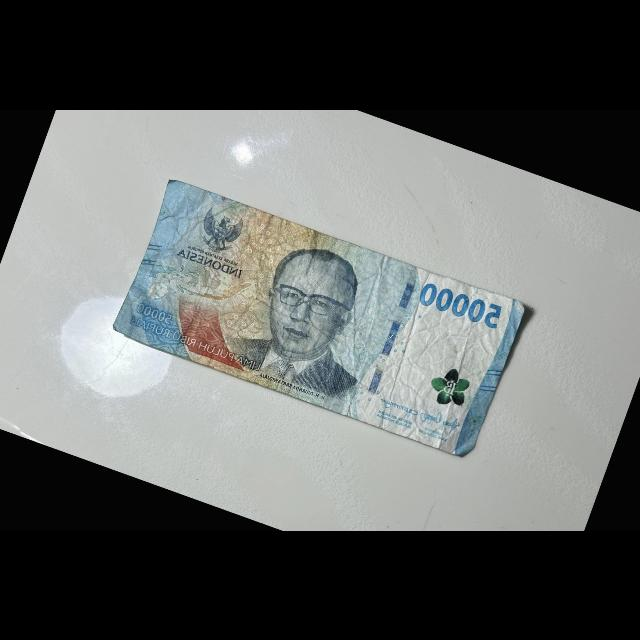Palsu-50k: (106, 166, 531, 465)
Tinta-Palsu-50k: (423, 362, 473, 411)
